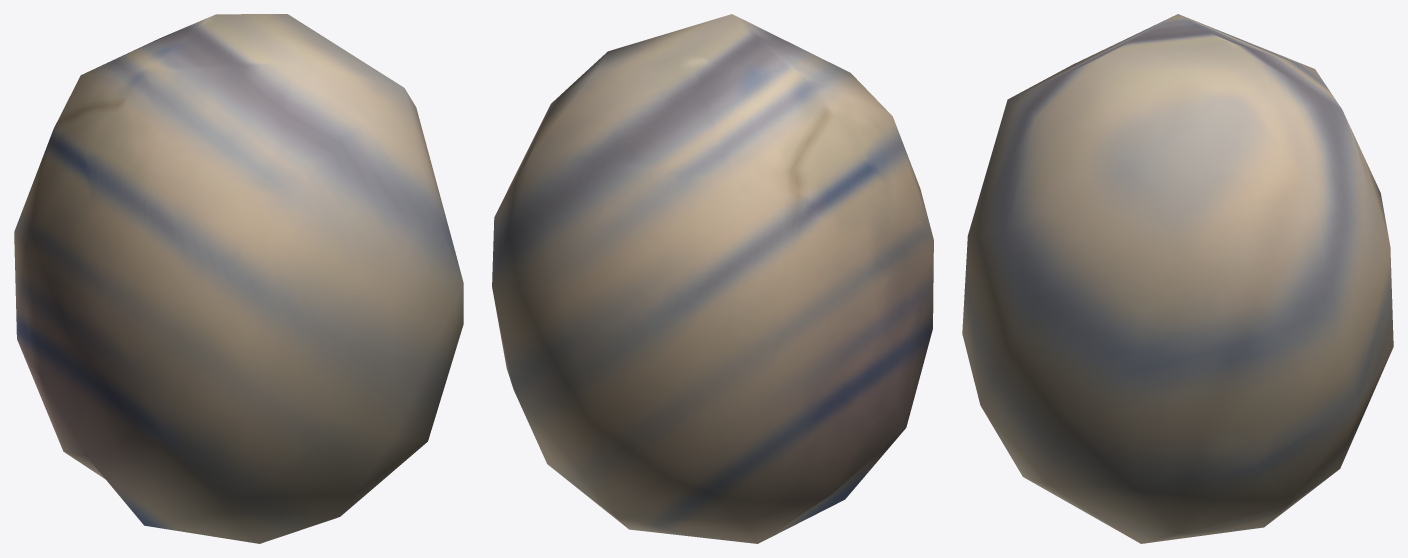
Rendered from SM_Gem_Moonstone_Piece_002.fbx.
3 renders of one model, left to right at view 1: azimuth 30°, elevation 25°; view 2: azimuth 150°, elevation 25°; view 3: azimuth 270°, elevation 25°, orthographic.
Visible parts, largest first — view 1: SM_Gem_Moonstone_Piece_002; view 2: SM_Gem_Moonstone_Piece_002; view 3: SM_Gem_Moonstone_Piece_002.
Boxes of the visible parts, x1,y1,x2,y2 form: SM_Gem_Moonstone_Piece_002: (14,14,463,543); SM_Gem_Moonstone_Piece_002: (492,14,933,543); SM_Gem_Moonstone_Piece_002: (962,14,1393,543).
Size of the model in its own units: 12.96 by 15.94 by 12.88.
